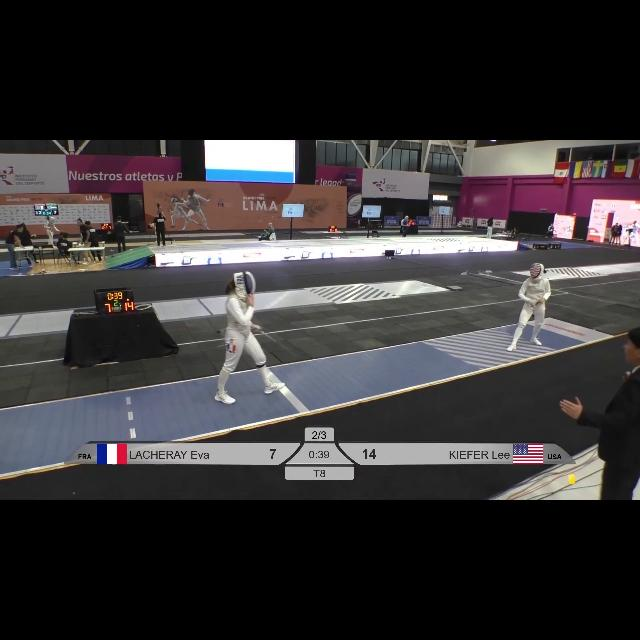blade: (256, 324, 314, 366)
